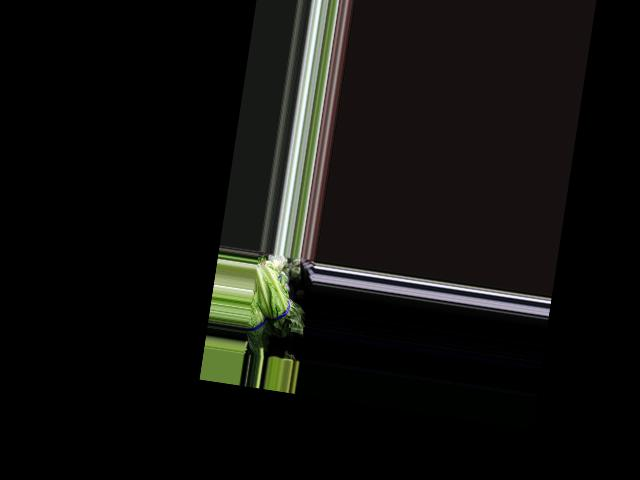lettuce: (246, 266, 308, 338)
